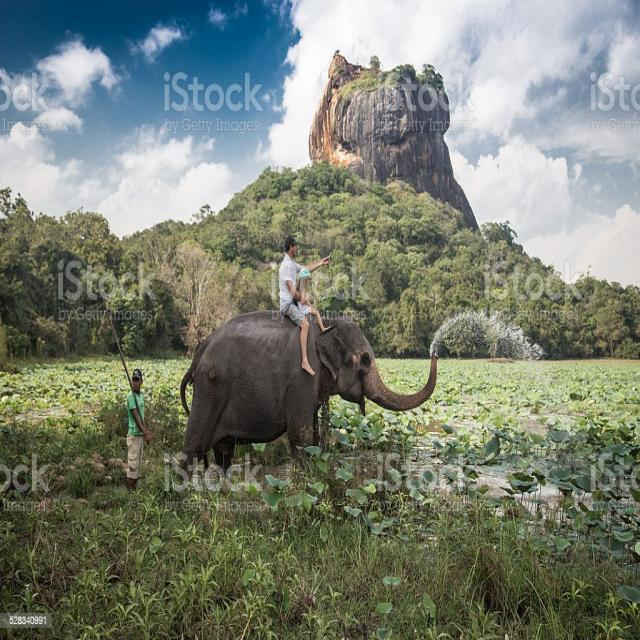Elephant: (169, 304, 443, 492)
